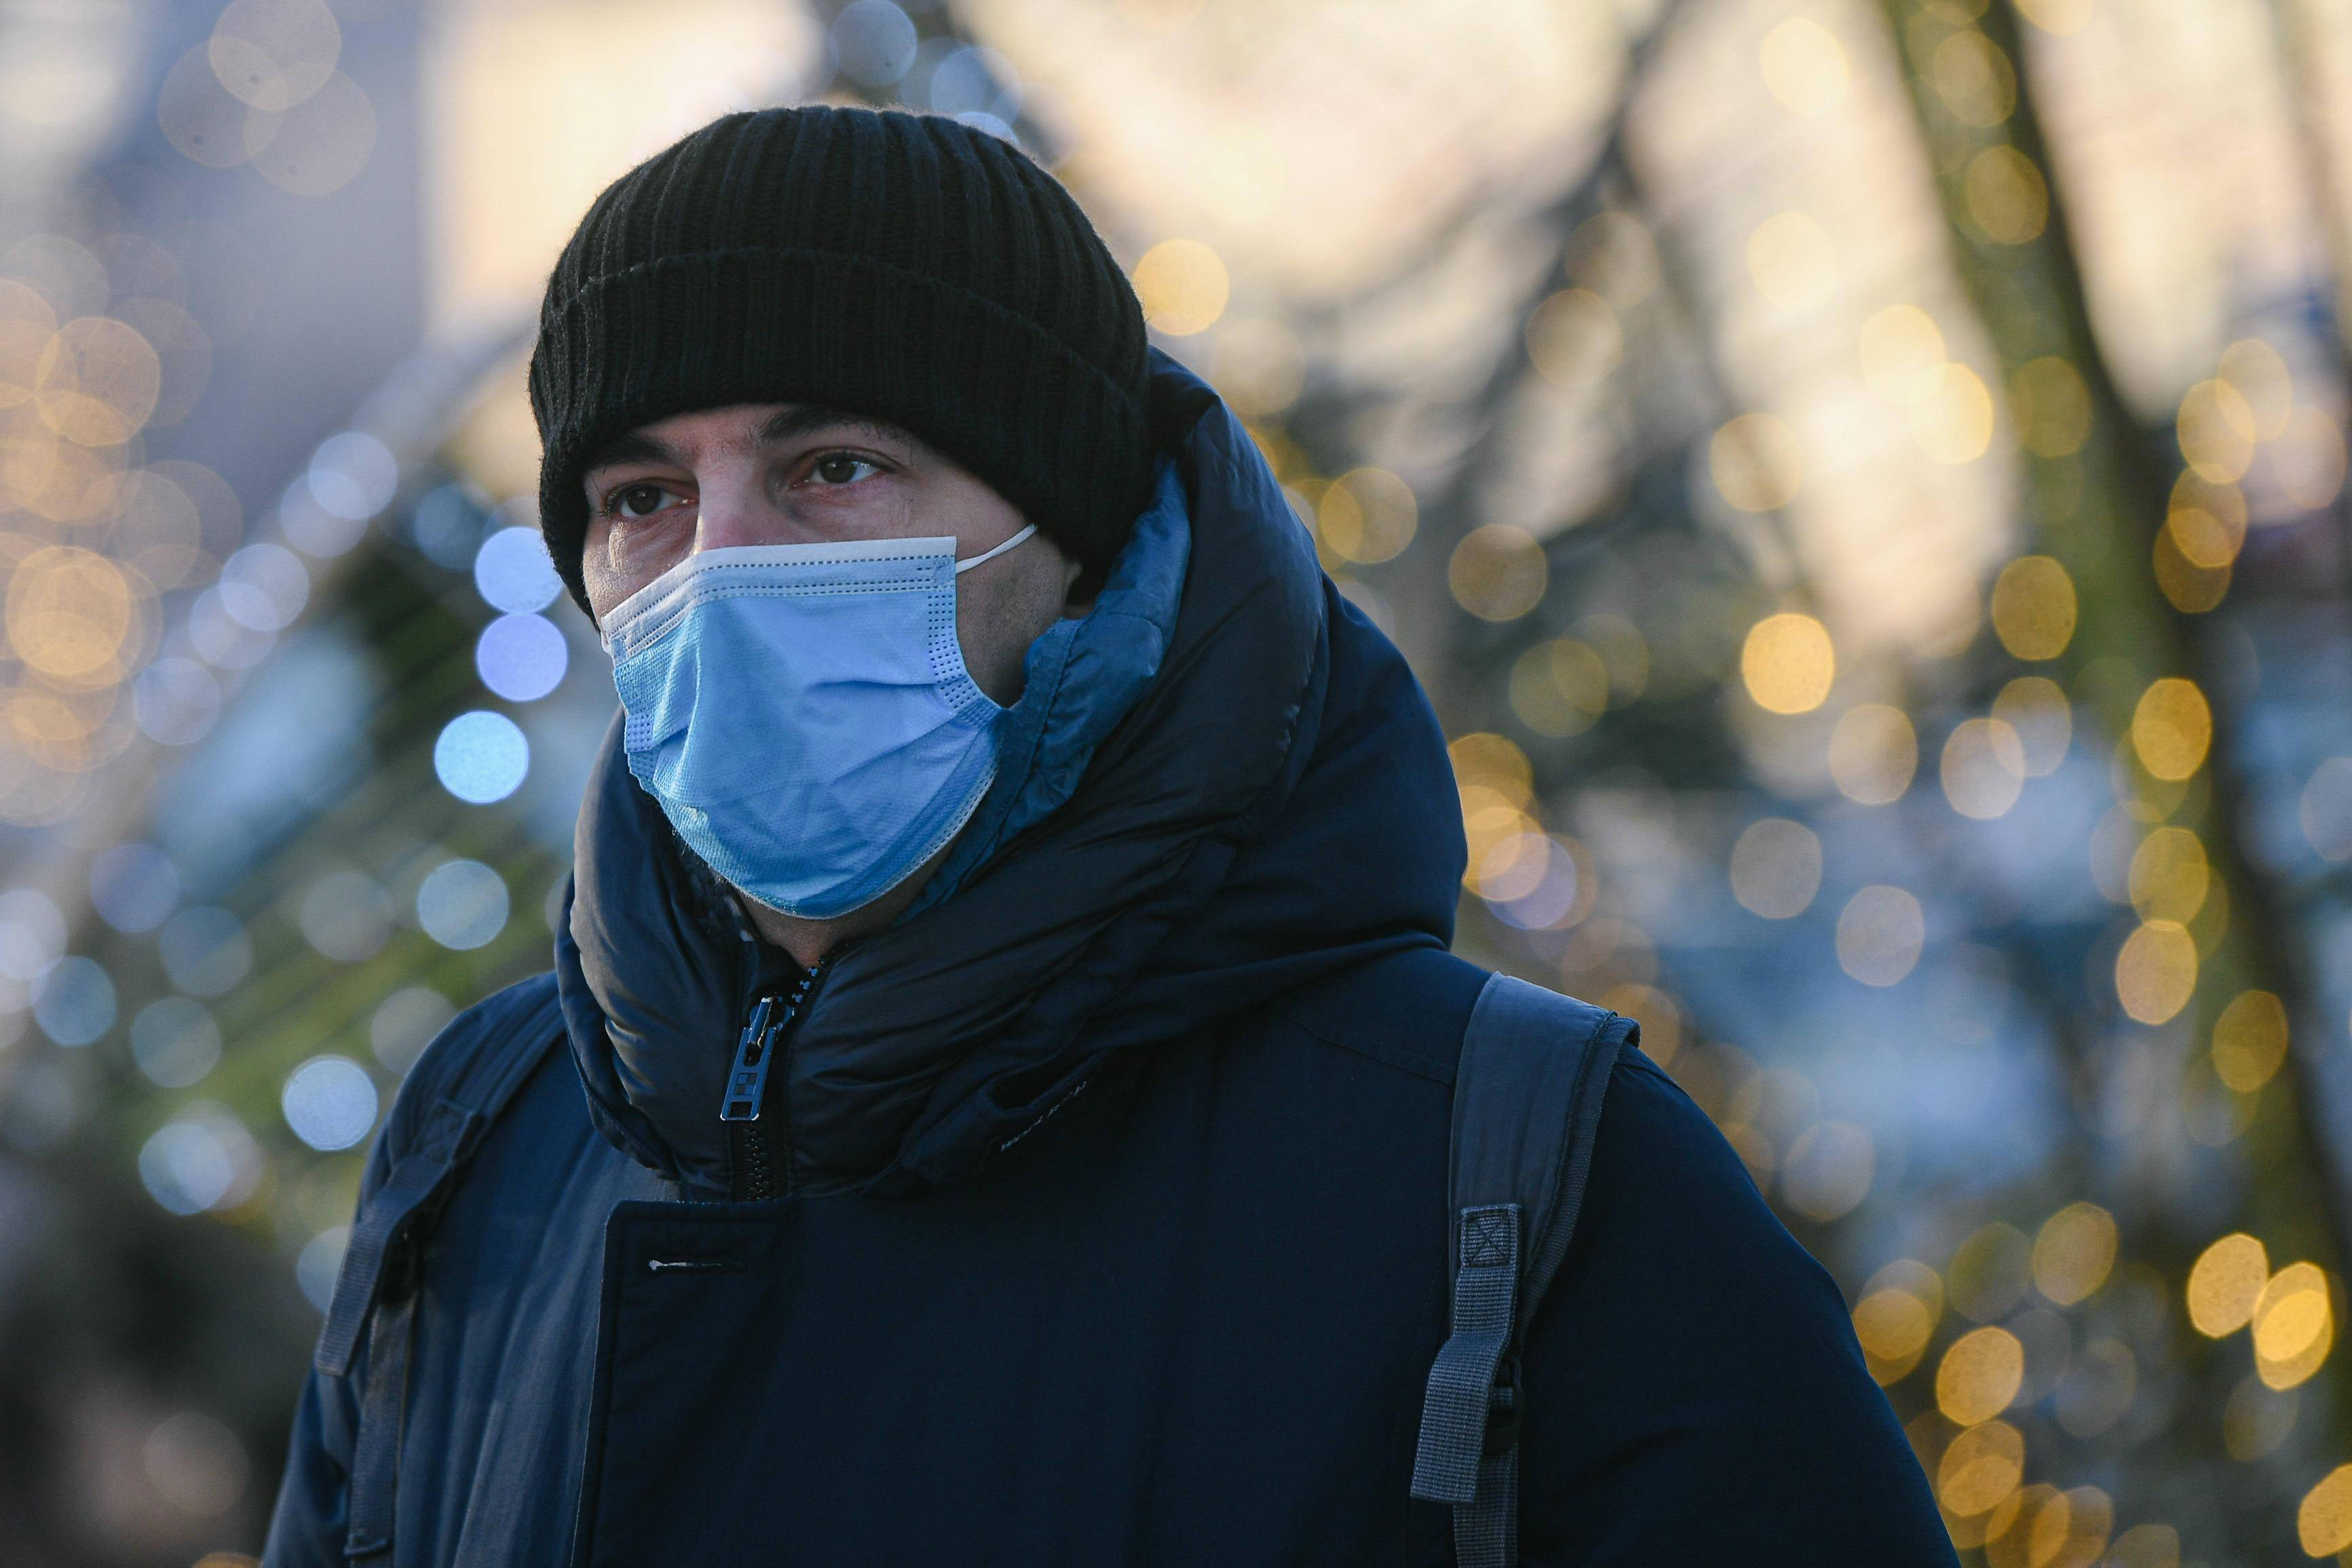mask: (577, 408, 1083, 942)
